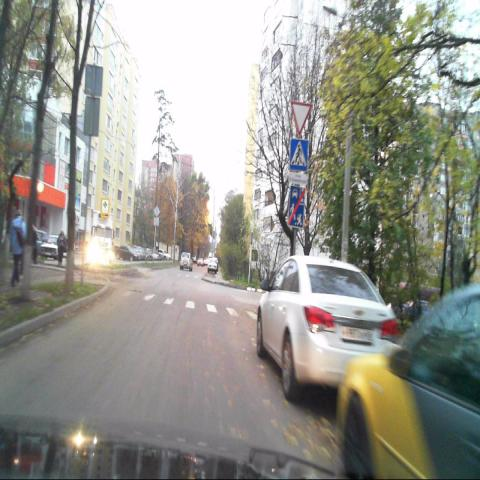5_22: (288, 188, 304, 229)
